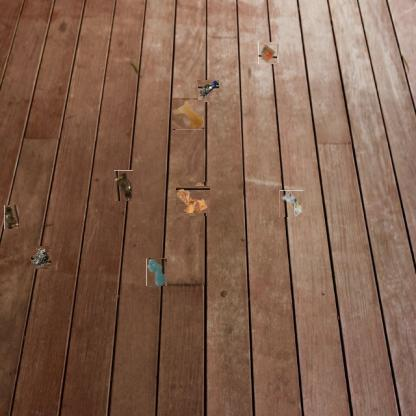dirty: (178, 184, 209, 214), (279, 190, 303, 217), (113, 170, 133, 201), (198, 80, 220, 102), (30, 246, 52, 268), (258, 43, 278, 64), (4, 205, 19, 229)
liquid: (172, 98, 204, 130), (146, 258, 167, 286)
